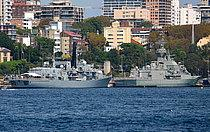MIL_Ship: (111, 38, 203, 88), (8, 53, 112, 88)
